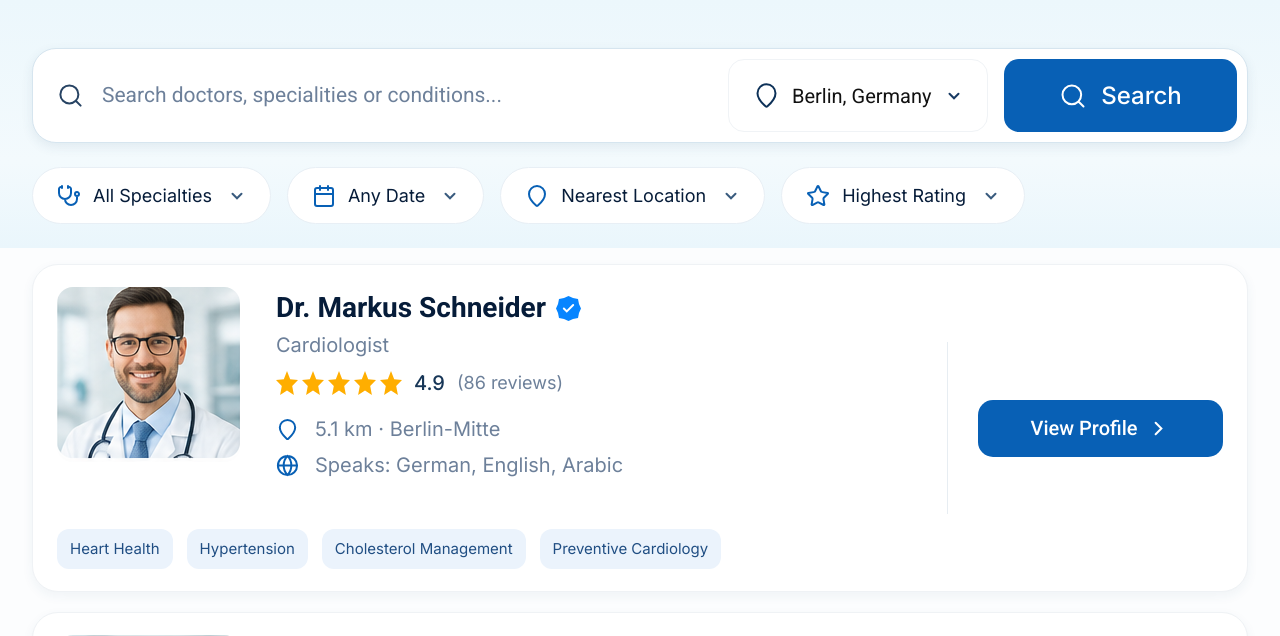
Test: Dashboard › shows Munich doctors when the city changes
Click the button with aria-label "City, Berlin, Germany" at coordinates (858, 96), box [728, 59, 988, 132]
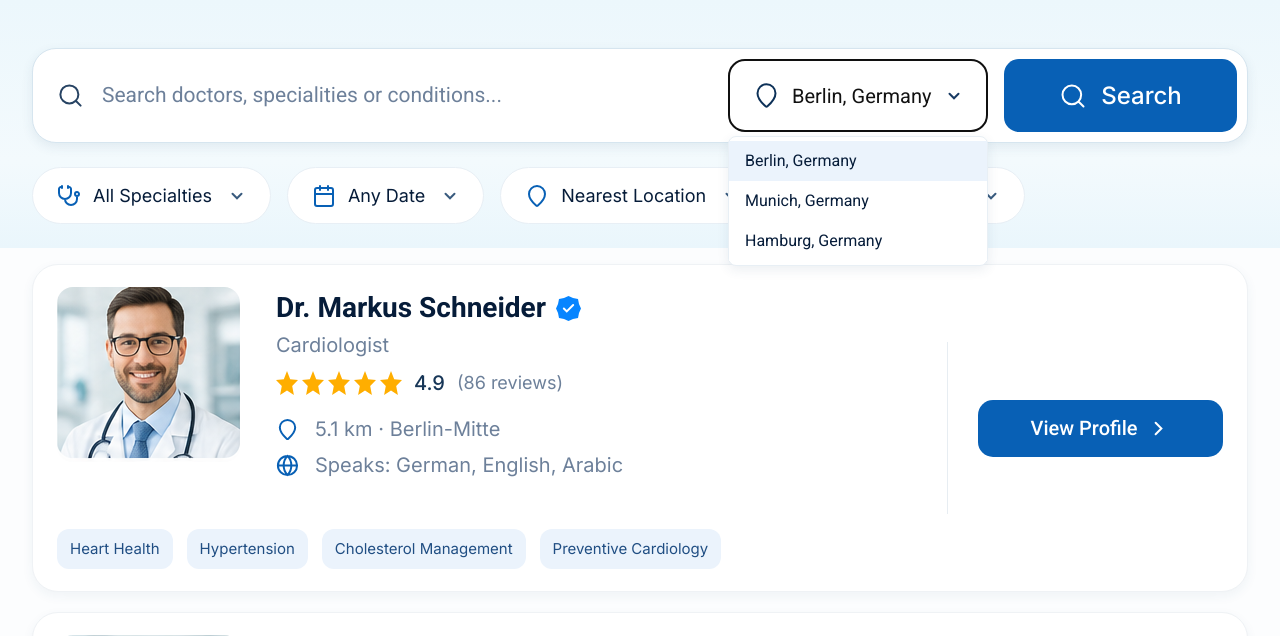
Click the menu item "Munich, Germany" at coordinates (858, 201), box [729, 181, 987, 221]
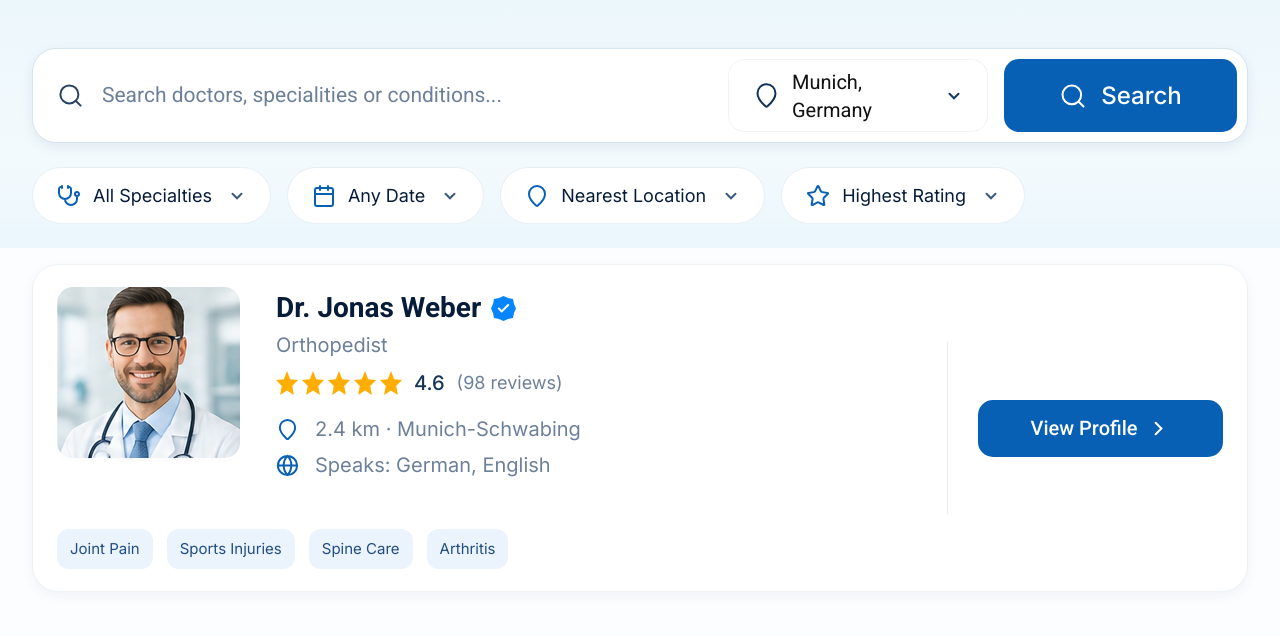
Check: the heading "Dr. Jonas Weber" is shown, box [276, 291, 481, 325]
Check: the heading "Dr. Markus Schneider" is gone
